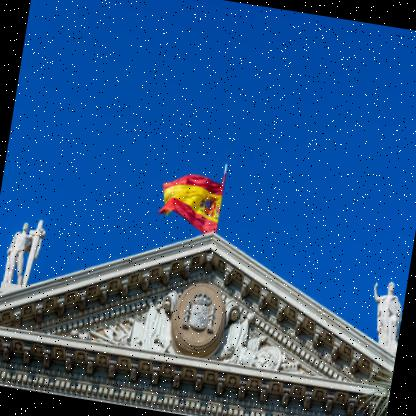es: (156, 170, 225, 236)
